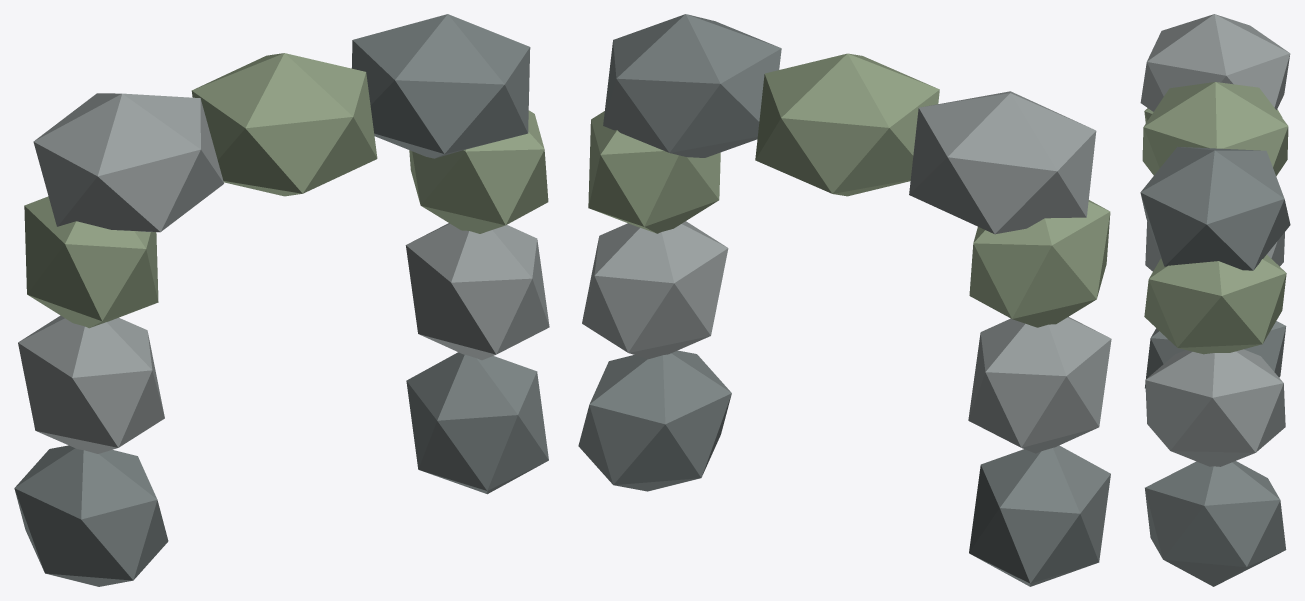
Rendered from cave_mouth_arch_4x3p5.glb.
3 renders of one model, left to right at view 1: azimuth 30°, elevation 25°; view 2: azimuth 150°, elevation 25°; view 3: azimuth 270°, elevation 25°, orthographic. The views are drawn at different scales.
Visible parts, largest first — view 1: cave_mouth_arch_07, cave_mouth_arch_08, cave_mouth_arch_09, cave_mouth_arch_01, cave_mouth_arch_04, cave_mouth_arch_02, cave_mouth_arch_05, cave_mouth_arch_03, cave_mouth_arch_06; view 2: cave_mouth_arch_07, cave_mouth_arch_08, cave_mouth_arch_09, cave_mouth_arch_04, cave_mouth_arch_01, cave_mouth_arch_05, cave_mouth_arch_02, cave_mouth_arch_03, cave_mouth_arch_06; view 3: cave_mouth_arch_09, cave_mouth_arch_04, cave_mouth_arch_05, cave_mouth_arch_06, cave_mouth_arch_07, cave_mouth_arch_08, cave_mouth_arch_01, cave_mouth_arch_02.
Part boxes in pixels (x1,y1,x2,y2): cave_mouth_arch_07: (33, 93, 223, 232); cave_mouth_arch_08: (191, 53, 377, 196); cave_mouth_arch_09: (351, 14, 530, 158); cave_mouth_arch_01: (14, 445, 168, 586); cave_mouth_arch_04: (406, 352, 548, 494); cave_mouth_arch_02: (18, 315, 164, 453); cave_mouth_arch_05: (405, 223, 549, 360); cave_mouth_arch_03: (24, 196, 158, 328); cave_mouth_arch_06: (409, 110, 548, 233); cave_mouth_arch_07: (909, 91, 1096, 234); cave_mouth_arch_08: (755, 53, 939, 196); cave_mouth_arch_09: (603, 14, 781, 157); cave_mouth_arch_04: (578, 350, 731, 491); cave_mouth_arch_01: (969, 445, 1110, 586); cave_mouth_arch_05: (582, 221, 728, 359); cave_mouth_arch_02: (968, 316, 1111, 453); cave_mouth_arch_03: (969, 200, 1110, 327); cave_mouth_arch_06: (588, 111, 720, 233); cave_mouth_arch_09: (1140, 146, 1290, 270); cave_mouth_arch_04: (1145, 461, 1286, 586); cave_mouth_arch_05: (1145, 349, 1285, 466); cave_mouth_arch_06: (1144, 254, 1286, 354); cave_mouth_arch_07: (1140, 14, 1290, 111); cave_mouth_arch_08: (1142, 82, 1288, 176); cave_mouth_arch_01: (1145, 321, 1286, 388); cave_mouth_arch_02: (1145, 221, 1284, 271).
Size of the model in its own units: 4.08 by 3.76 by 1.22.
